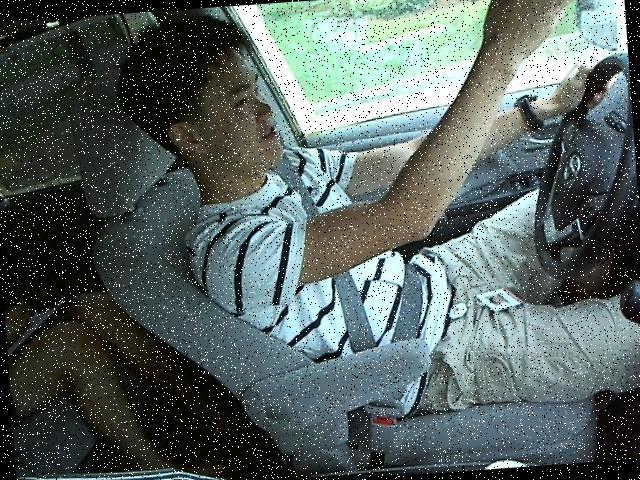c6 - Hair and Makeup: (107, 0, 639, 320)
